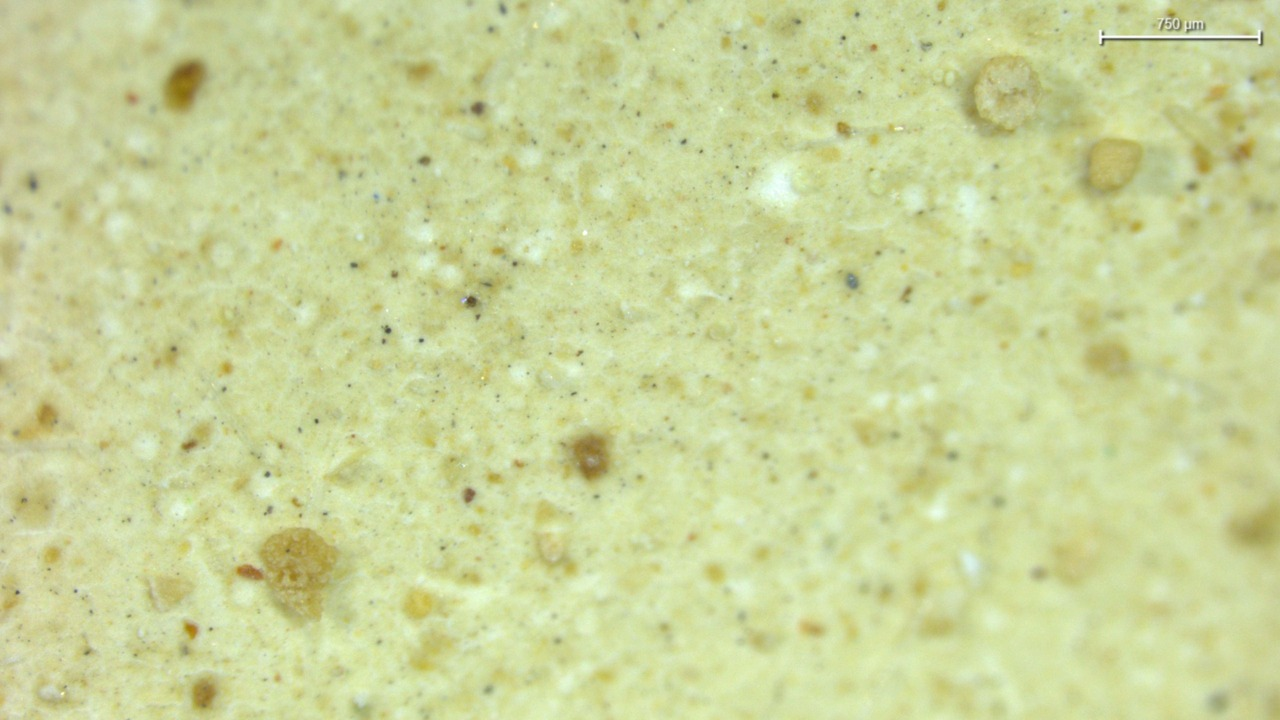microplastic_fragment: (263, 532, 339, 622), (972, 58, 1048, 131), (1094, 139, 1141, 194)
